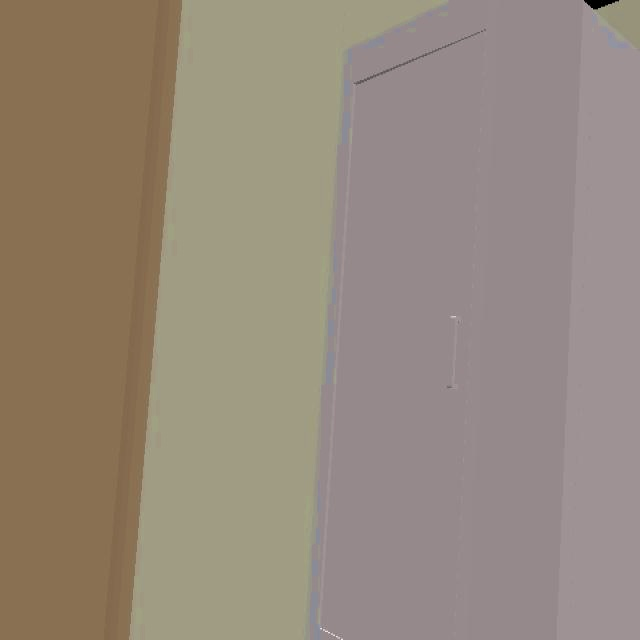shower: (304, 0, 640, 640)
